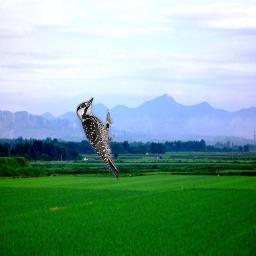Woodpecker: (76, 97, 119, 180)
